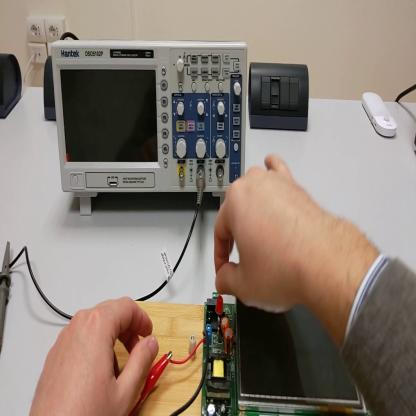hand: (214, 156, 316, 318), (32, 295, 159, 416)
low voltage board: (171, 300, 372, 415)
oscilloscope: (51, 38, 250, 216)
oscilloscope probe tip: (3, 239, 15, 354)
socket: (1, 53, 23, 121), (44, 54, 60, 120)
working area: (111, 296, 208, 414)
